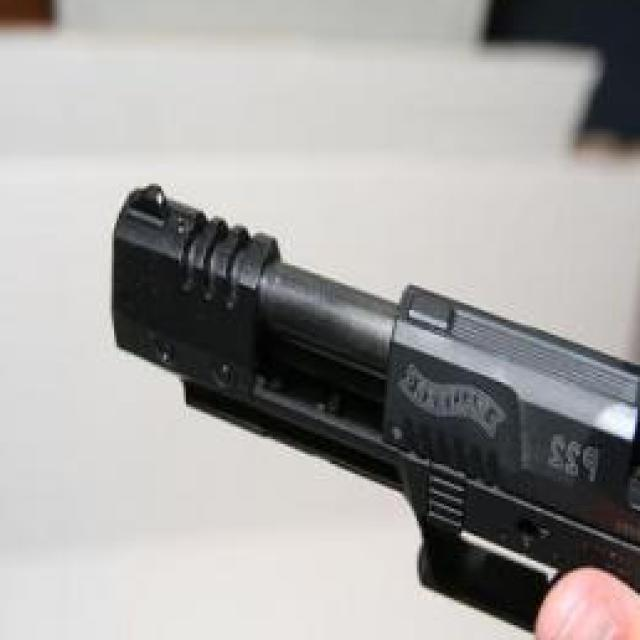pistol: (114, 183, 640, 640)
